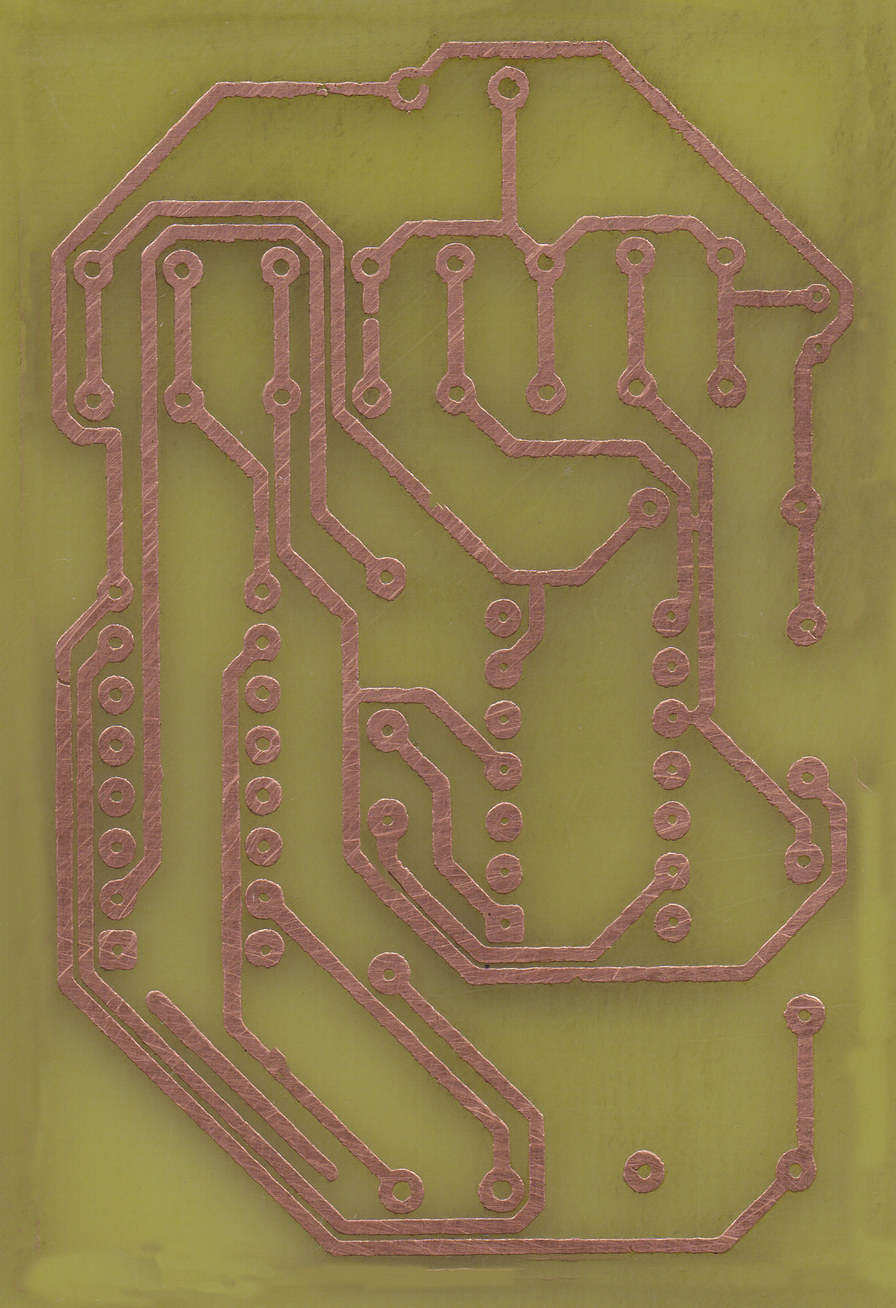missing_hole: (388, 65, 431, 113)
mouse_bite: (422, 488, 448, 520), (305, 79, 343, 100)
open_circuit: (360, 301, 382, 330), (51, 672, 76, 697)
short: (675, 504, 715, 538)
spur: (262, 1042, 296, 1078)
spurious_copper: (144, 986, 341, 1184)
